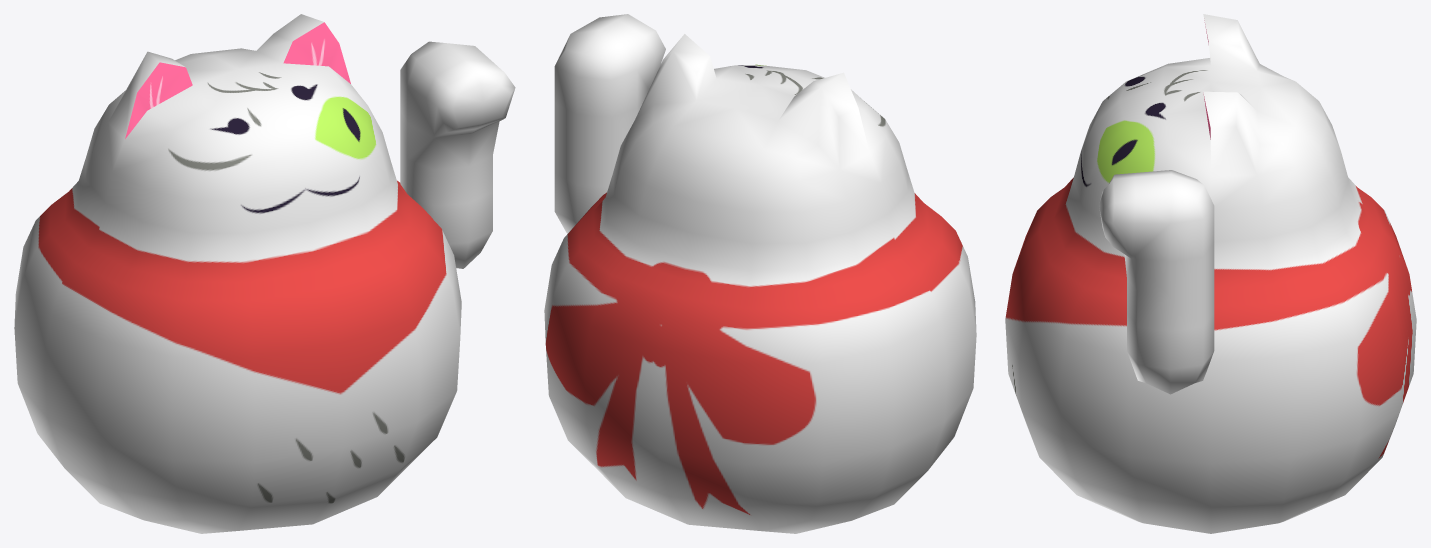
File: Cat.fbx
The picture shows the model from 3 angles, left to right: view 1: azimuth 30°, elevation 25°; view 2: azimuth 150°, elevation 25°; view 3: azimuth 270°, elevation 25°; orthographic projection. The views are drawn at different scales.
Parts seen in each view (by area): view 1: Cube; view 2: Cube; view 3: Cube.
Part boxes in pixels (bbox=[...]): Cube: bbox=[14, 14, 515, 533]; Cube: bbox=[544, 14, 976, 533]; Cube: bbox=[1005, 14, 1416, 533].
Bounding box in the file's own units: 2.09 × 2.21 × 1.83.
